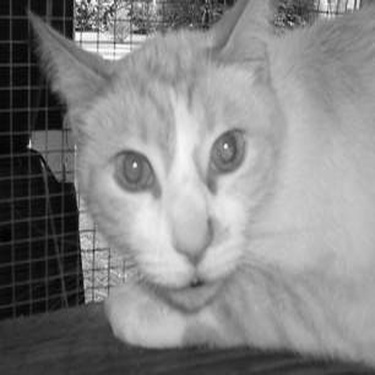cat: (27, 4, 369, 370)
